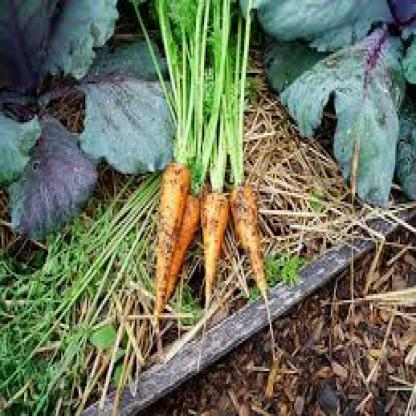Disposable tableware: (3, 4, 416, 416)
